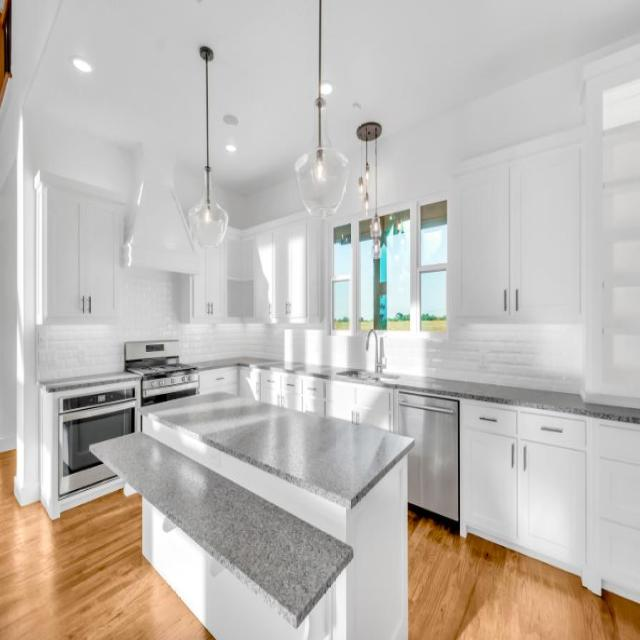dishwasher: (399, 388, 458, 522)
